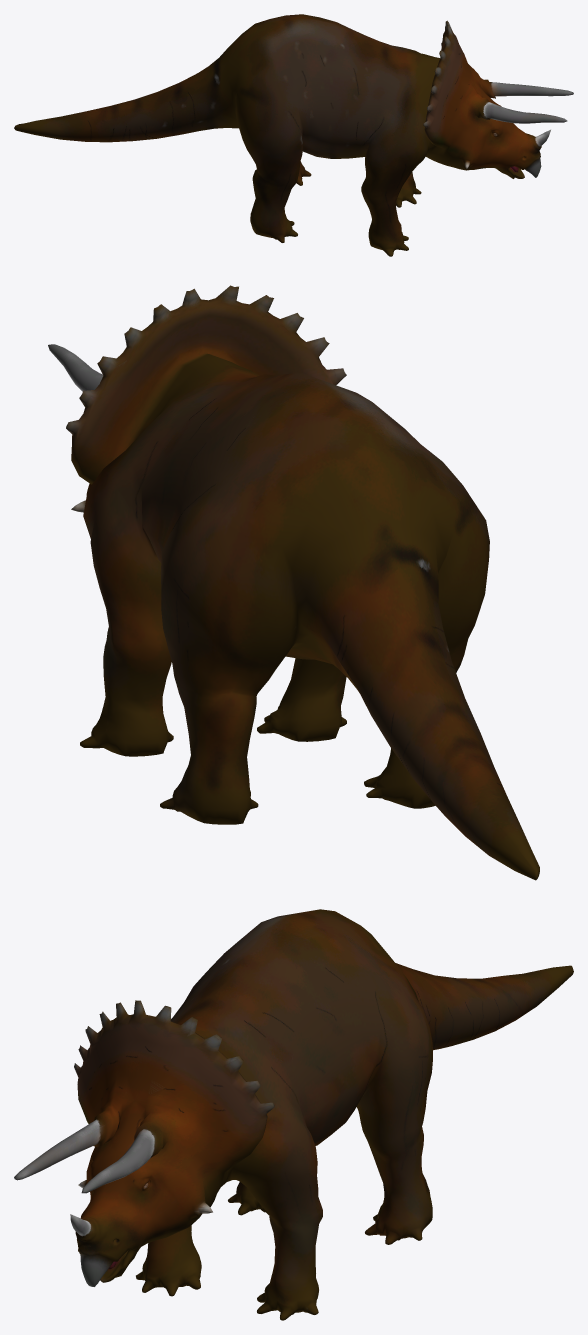
File: Triceratop.glb
The picture shows the model from 3 angles, top to bottom: view 1: azimuth 30°, elevation 25°; view 2: azimuth 150°, elevation 25°; view 3: azimuth 270°, elevation 25°; orthographic projection. The views are drawn at different scales.
Parts seen in each view (by area): view 1: node_id5; view 2: node_id5; view 3: node_id5.
Boxes of the visible parts, x1,y1,x2,y2 form: node_id5: (14, 14, 573, 256); node_id5: (48, 285, 539, 880); node_id5: (14, 909, 573, 1320).
Bounding box in the file's own units: 0.43 × 0.2178 × 0.3339.
Materials: 1 (1 with a texture image).
